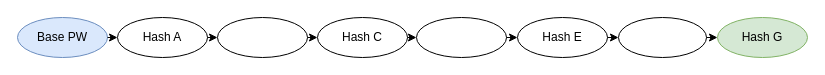
Image size: 825x75. Some labels were removed from this diagram. Each missing label, with the centre of its shape:
"PW B" goes at (x=262, y=37).
"PW D" goes at (x=461, y=37).
"PW F" goes at (x=662, y=37).
